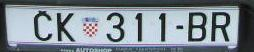-: (175, 25, 183, 31)
1: (135, 12, 144, 42), (158, 11, 166, 42)
3: (106, 13, 125, 42)
B: (188, 11, 206, 41)
C: (32, 12, 53, 42), (56, 13, 76, 42)
R: (211, 11, 230, 42)
